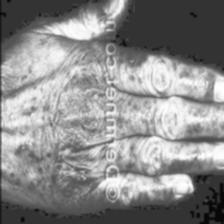Unclassified: (53, 158, 79, 196), (10, 140, 34, 160), (130, 50, 145, 78)
